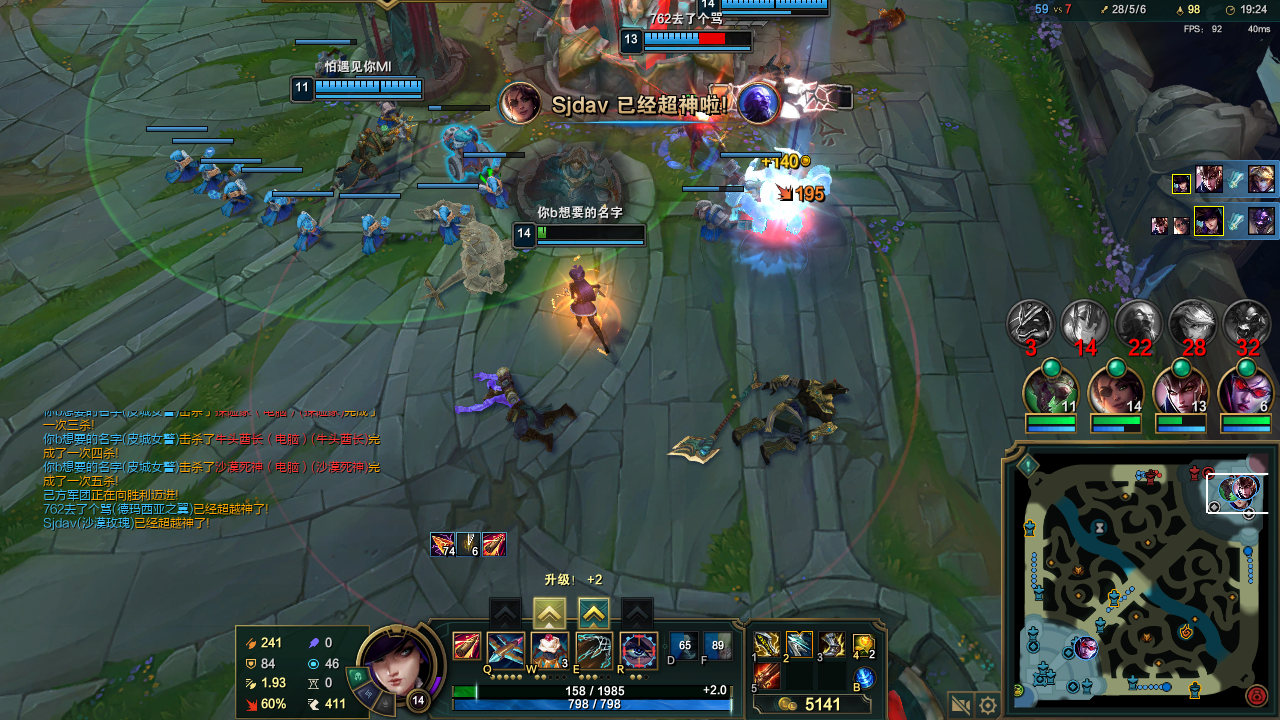DFFYT: (363, 6, 474, 89)
Shenji: (583, 602, 610, 628)
Tuijianshengji: (540, 604, 562, 626)
WFXB: (428, 125, 497, 176), (696, 204, 744, 246), (353, 211, 394, 255), (253, 186, 291, 231), (289, 209, 326, 255), (427, 207, 468, 246), (220, 178, 256, 221), (476, 174, 517, 209), (162, 151, 201, 184), (190, 163, 225, 195)
